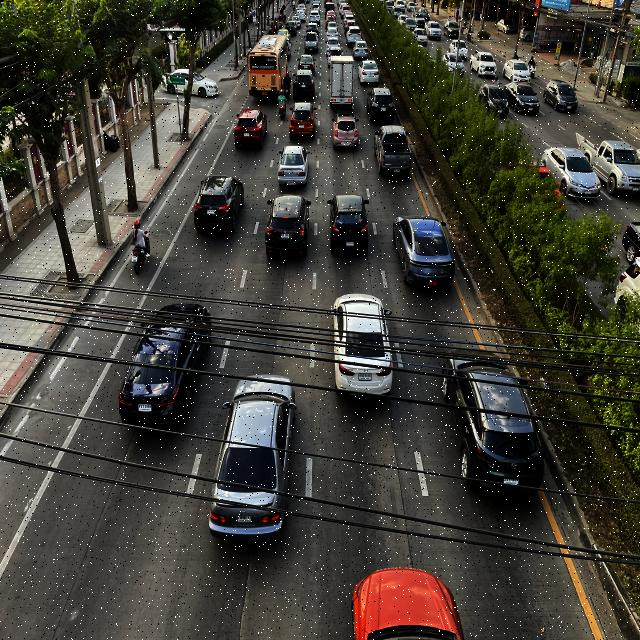bike: (278, 87, 286, 124)
bus: (248, 34, 288, 98)
car: (429, 345, 556, 511), (206, 372, 302, 563), (115, 288, 211, 436), (322, 284, 399, 409), (389, 199, 458, 295), (262, 188, 312, 276), (320, 188, 376, 262), (192, 173, 242, 245), (370, 122, 416, 181), (160, 63, 220, 100), (231, 104, 269, 157), (325, 110, 362, 159), (273, 142, 311, 189), (288, 98, 320, 141)
